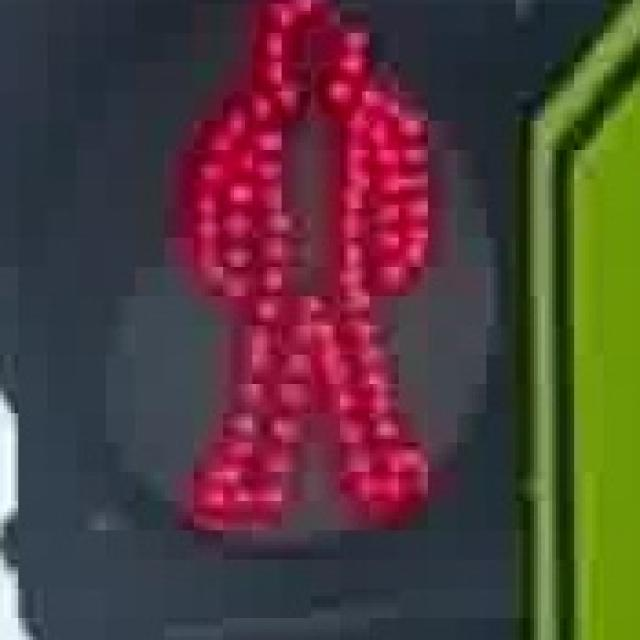red_light: (171, 0, 457, 519)
